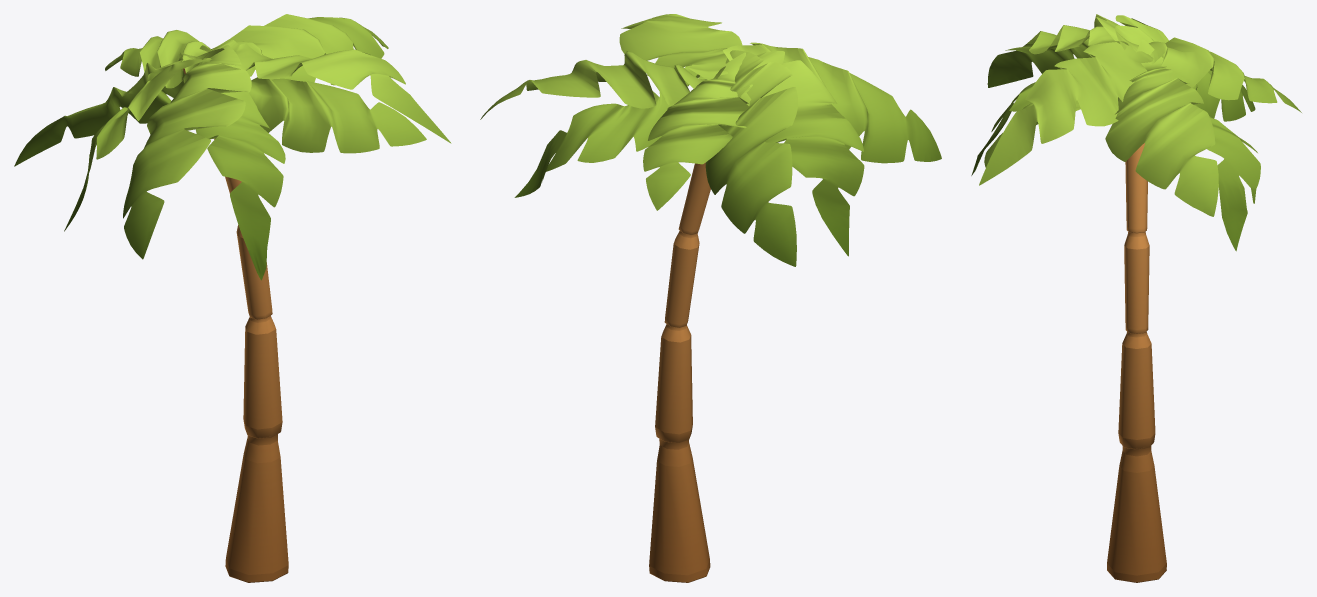
File: PALMIE.fbx
The picture shows the model from 3 angles, left to right: view 1: azimuth 30°, elevation 25°; view 2: azimuth 150°, elevation 25°; view 3: azimuth 270°, elevation 25°; orthographic projection. The views are drawn at different scales.
Visible parts, largest first — view 1: PALMIE; view 2: PALMIE; view 3: PALMIE.
Part boxes in pixels (x1=…): PALMIE: x1=14, y1=14, x2=451, y2=582; PALMIE: x1=480, y1=14, x2=941, y2=582; PALMIE: x1=971, y1=14, x2=1301, y2=582.
Size of the model in its own units: 618 by 890 by 522.
